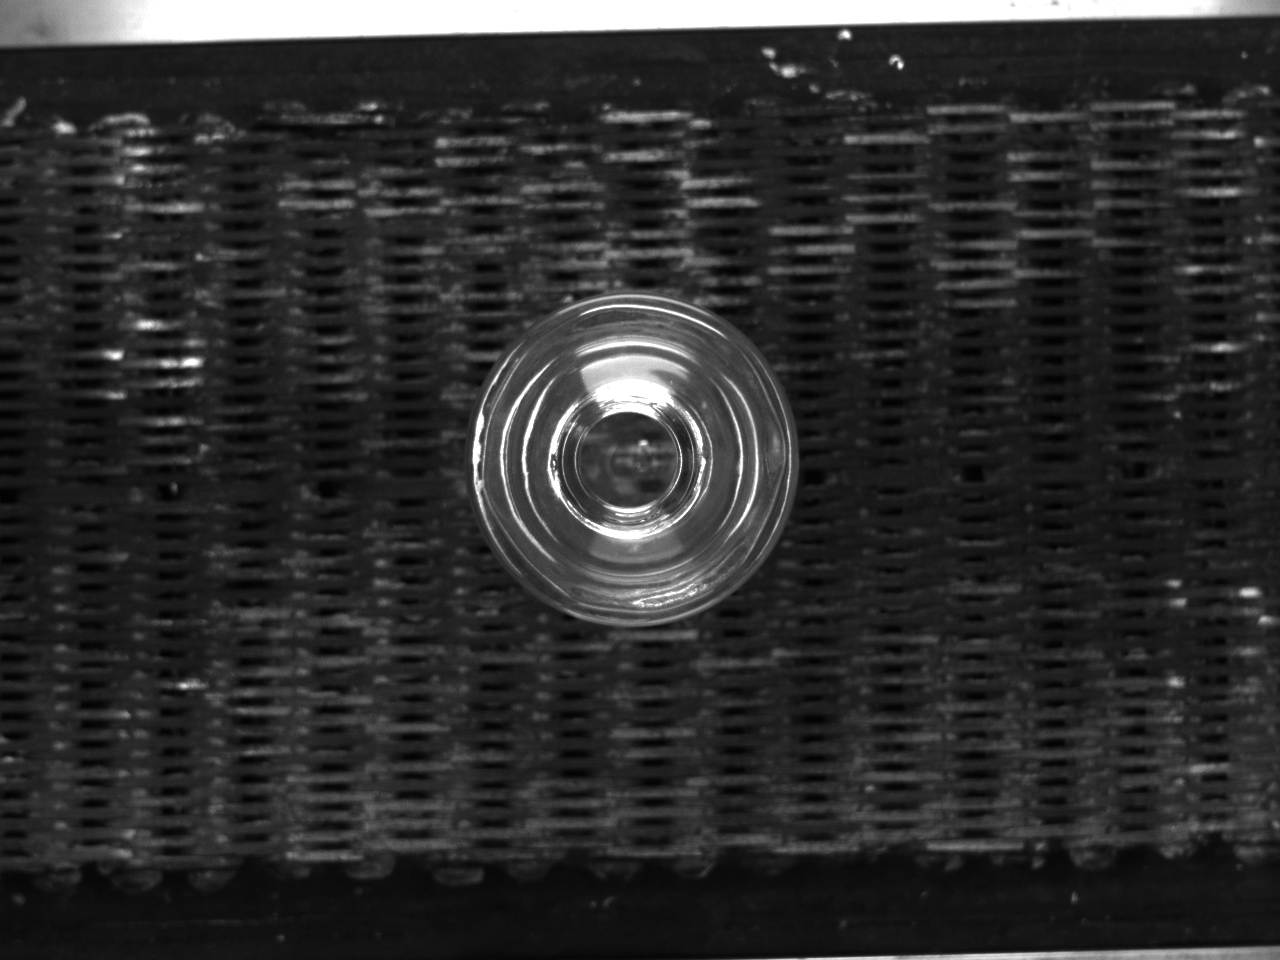bottleneck: (549, 382, 713, 539)
